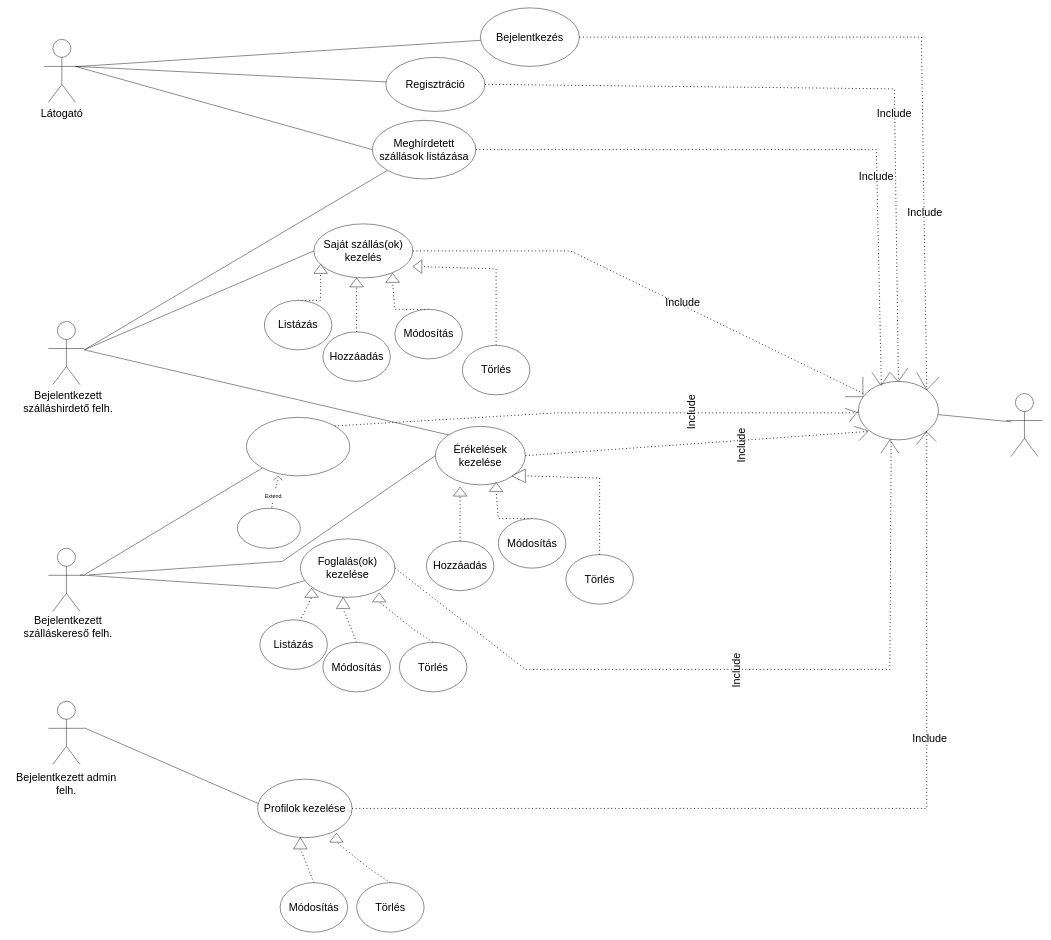
The diagram is 1051 pixels wide and 940 high, and some of its shapes have lost their labels. The centre of each missing label's shape, as x and y in pixels:
"Adatkezelés" goes at pixel 898 410.
"Foglalás" goes at pixel 268 528.
"Meghírdetett szállások lisstázása" goes at pixel 298 446.
